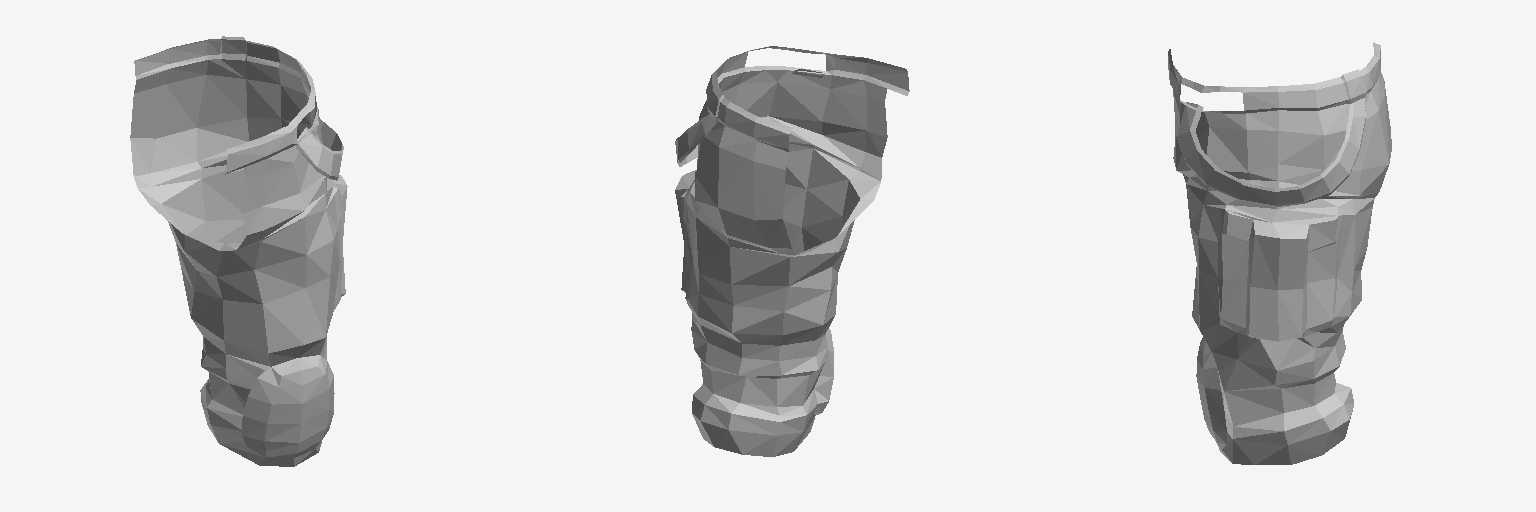
Rendered from hg_uleg.obj.
3 views of the same model, side by side, from view 1: azimuth 30°, elevation 25°; view 2: azimuth 150°, elevation 25°; view 3: azimuth 270°, elevation 25° (orthographic).
Parts seen in each view (by area): view 1: studio.helghast_assault_medium.smd.mesh_0.005; view 2: studio.helghast_assault_medium.smd.mesh_0.005; view 3: studio.helghast_assault_medium.smd.mesh_0.005.
Part boxes in pixels (bbox=[...]): studio.helghast_assault_medium.smd.mesh_0.005: bbox=[130, 36, 347, 466]; studio.helghast_assault_medium.smd.mesh_0.005: bbox=[675, 46, 909, 456]; studio.helghast_assault_medium.smd.mesh_0.005: bbox=[1168, 42, 1391, 464].
Size of the model in its own units: 11.74 by 24.94 by 13.27.